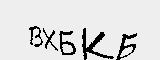Б: (117, 31, 138, 60), (58, 27, 76, 56)
В: (26, 24, 44, 48)
К: (81, 28, 110, 60)
Х: (40, 28, 59, 52)
